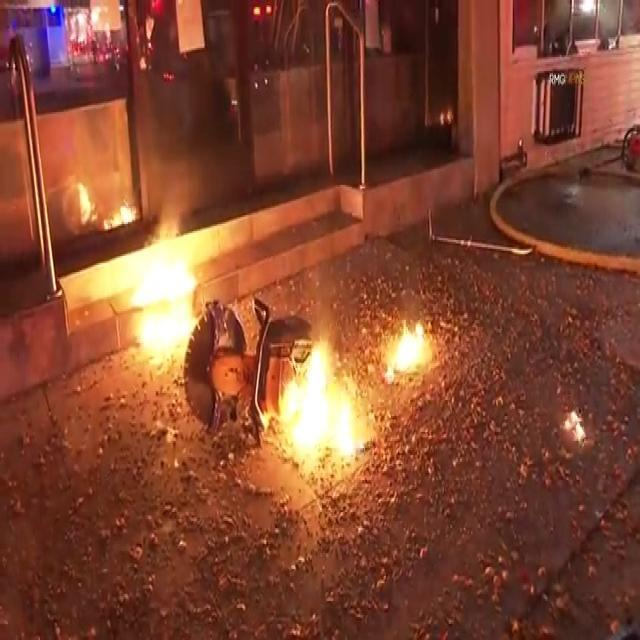Fire: (121, 215, 214, 373), (274, 327, 362, 468), (66, 169, 140, 233), (385, 314, 437, 384)
